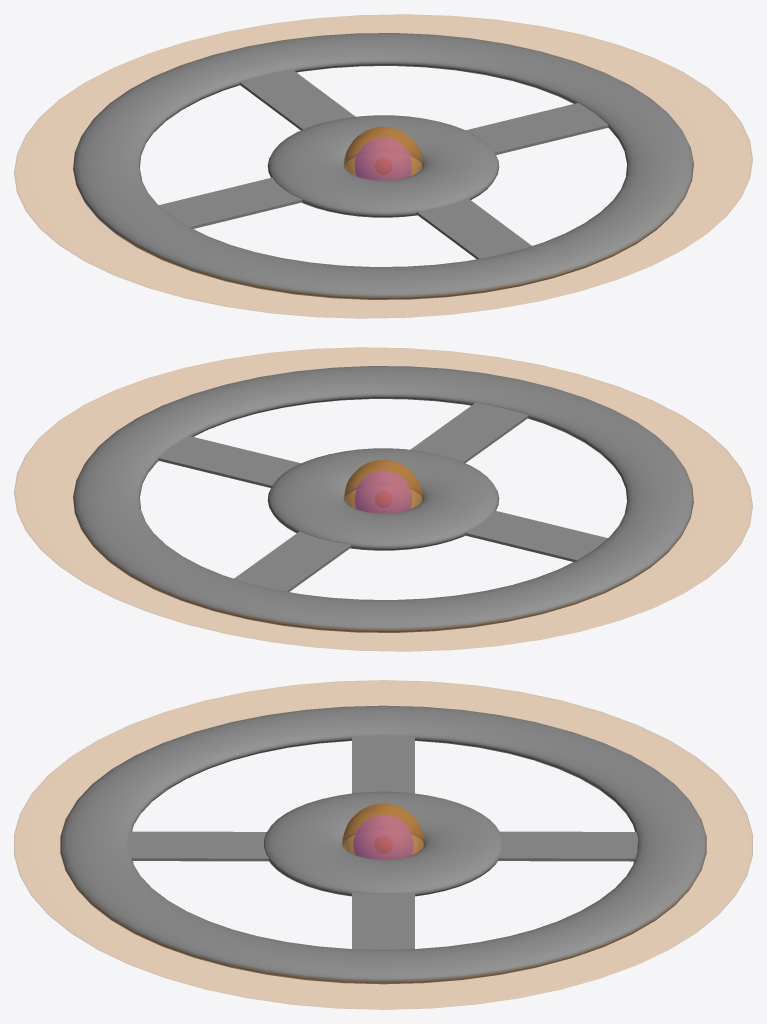
File: space_ring.fbx
The picture shows the model from 3 angles, top to bottom: view 1: azimuth 30°, elevation 25°; view 2: azimuth 150°, elevation 25°; view 3: azimuth 270°, elevation 25°; orthographic projection. The views are drawn at different scales.
Parts seen in each view (by area): view 1: pTorus1, pTorus3, pTorus2, pasted__pCube1 (×2), pCube1, pasted__pasted__pCube1, pSphere1, pSphere2; view 2: pTorus1, pTorus3, pTorus2, pasted__pCube1 (×2), pCube1, pasted__pasted__pCube1, pSphere1, pSphere2; view 3: pTorus1, pTorus3, pTorus2, pasted__pCube1 (×2), pasted__pasted__pCube1, pSphere1, pCube1, pSphere2.
Boxes of the visible parts, x1,y1,x2,y2 form: pTorus1: [73, 33, 693, 299]; pTorus3: [14, 14, 752, 318]; pTorus2: [267, 115, 499, 217]; pasted__pCube1 (×2): [159, 177, 531, 258]; pCube1: [466, 103, 608, 154]; pasted__pasted__pCube1: [239, 69, 355, 130]; pSphere1: [344, 126, 422, 180]; pSphere2: [355, 138, 411, 179]; pTorus1: [73, 366, 693, 632]; pTorus3: [14, 347, 752, 651]; pTorus2: [267, 448, 499, 550]; pasted__pCube1 (×2): [411, 402, 607, 561]; pCube1: [158, 436, 300, 487]; pasted__pasted__pCube1: [234, 531, 351, 591]; pSphere1: [344, 459, 422, 513]; pSphere2: [355, 471, 411, 512]; pTorus1: [60, 705, 706, 984]; pTorus3: [14, 680, 752, 1009]; pTorus2: [264, 791, 502, 896]; pasted__pCube1 (×2): [129, 736, 414, 861]; pasted__pasted__pCube1: [498, 831, 637, 861]; pSphere1: [342, 803, 424, 859]; pCube1: [352, 892, 414, 949]; pSphere2: [353, 815, 413, 859].
Bounding box in the file's own units: 12.33 × 1.31 × 11.68.
